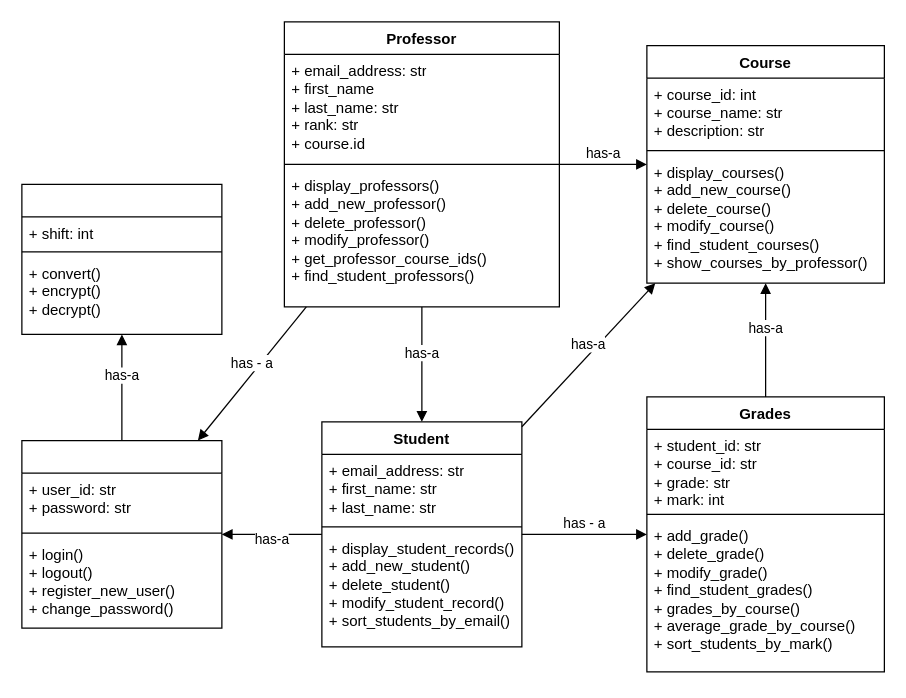
Some shapes in this 906 by 698 pixel diagram are drawn without their labels. Each missing label, with the box of its shape:
LoginUser: (21, 439, 222, 628)
TextSecurity: (21, 183, 222, 334)
